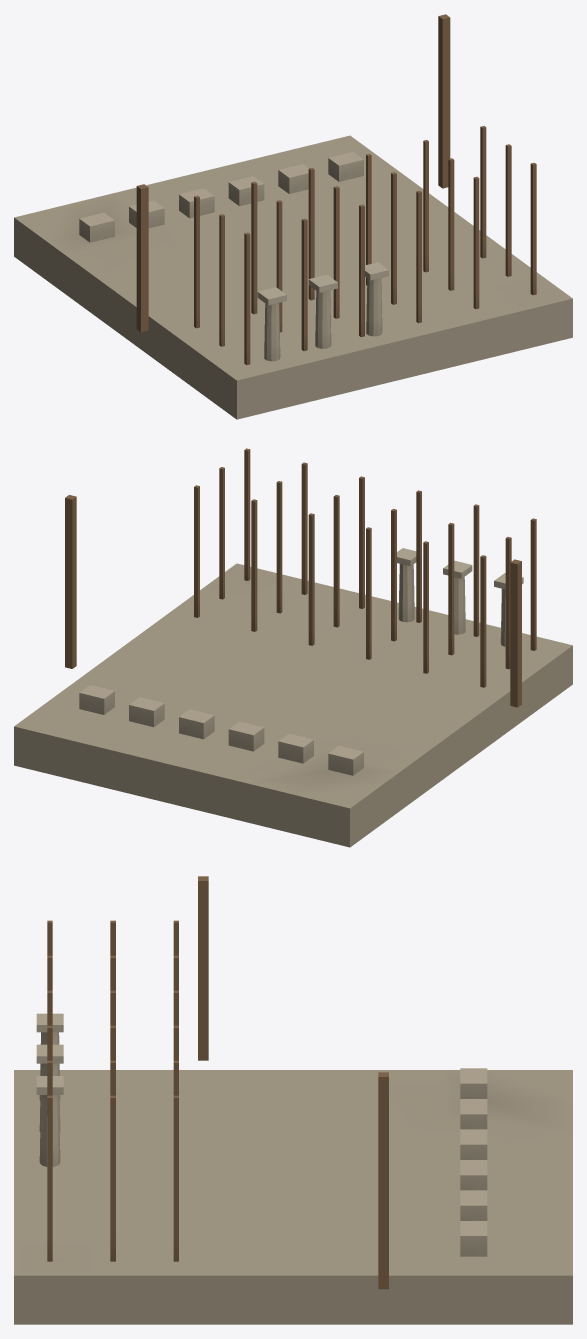
The model's file is temple-of-jupiter-construction.glb.
The picture shows the model from 3 angles, top to bottom: view 1: azimuth 30°, elevation 25°; view 2: azimuth 150°, elevation 25°; view 3: azimuth 270°, elevation 25°; orthographic projection. The views are drawn at different scales.
Parts seen in each view (by area): view 1: p0_podium, p1_scaffold, p2_cranes; view 2: p0_podium, p1_scaffold, p2_cranes; view 3: p0_podium, p1_scaffold, p2_cranes.
Boxes of the visible parts, x1,y1,x2,y2 form: p0_podium: [14, 135, 572, 419]; p1_scaffold: [79, 126, 536, 365]; p2_cranes: [136, 14, 450, 361]; p0_podium: [14, 563, 572, 847]; p1_scaffold: [79, 448, 536, 775]; p2_cranes: [65, 495, 523, 707]; p0_podium: [14, 1070, 572, 1324]; p1_scaffold: [47, 920, 487, 1261]; p2_cranes: [36, 876, 388, 1289].
Size of the model in its own units: 61.2 by 32 by 62.
